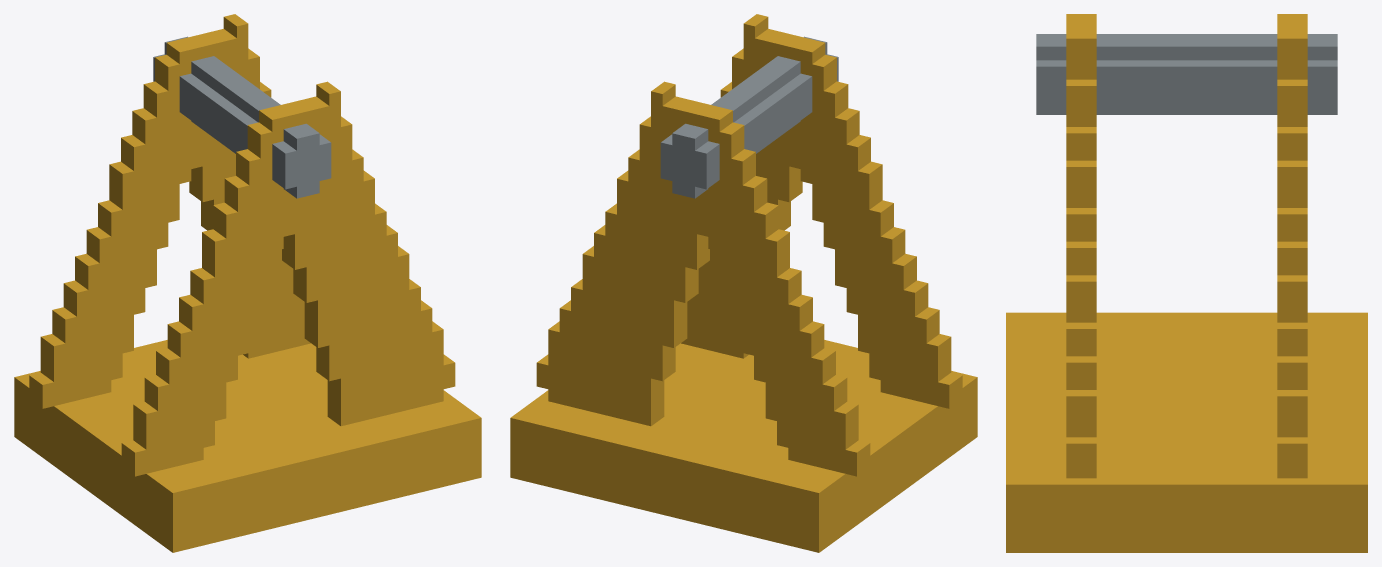
The model's file is tow_truck_mast.glb.
3 renders of one model, left to right at view 1: azimuth 30°, elevation 25°; view 2: azimuth 150°, elevation 25°; view 3: azimuth 270°, elevation 25°, orthographic. The views are drawn at different scales.
Visible parts, largest first — view 1: body:compound; view 2: body:compound; view 3: body:compound.
Boxes of the visible parts, x1=… form: body:compound: x1=14, y1=14, x2=481, y2=552; body:compound: x1=510, y1=14, x2=977, y2=552; body:compound: x1=1006, y1=14, x2=1367, y2=552.
Bounding box in the file's own units: 0.875 × 1.03 × 0.75.
